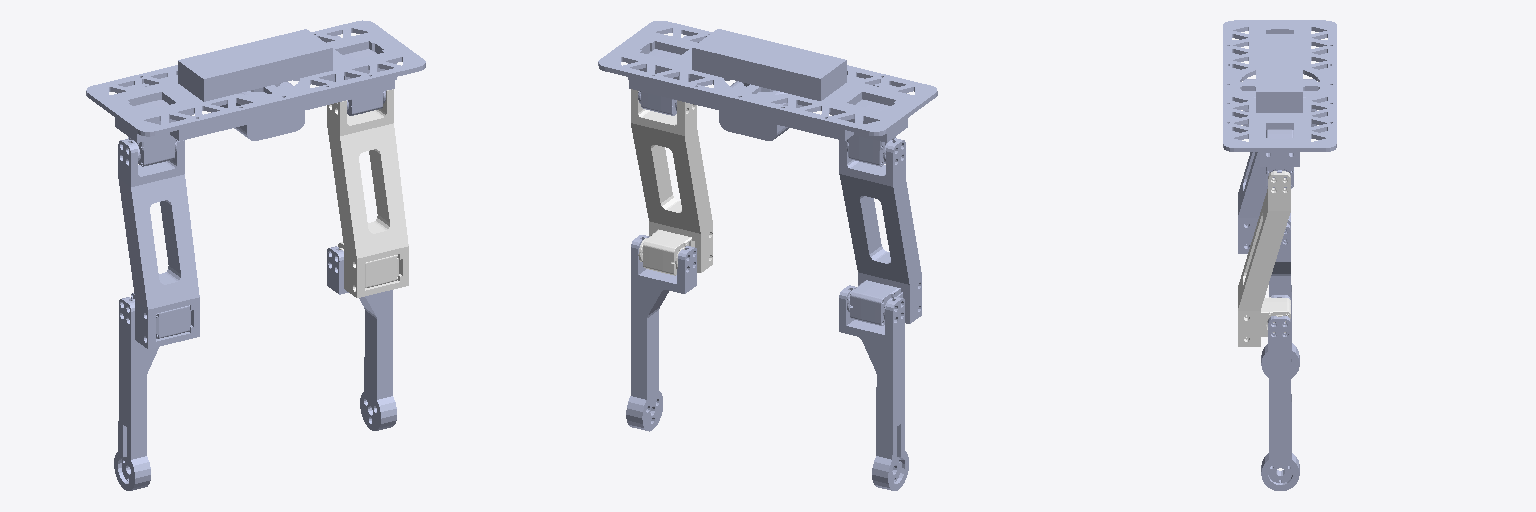
robot.urdf — Total.SLDASM:
<?xml version="1.0" encoding="utf-8"?>
<!-- This URDF was automatically created by SolidWorks to URDF Exporter! Originally created by Stephen Brawner (brawner@gmail.com) 
     Commit Version: 1.6.0-4-g7f85cfe  Build Version: 1.6.7995.38578
     For more information, please see http://wiki.ros.org/sw_urdf_exporter -->
<robot
  name="Total.SLDASM">
  <link
    name="base_link">
    <inertial>
      <origin
        xyz="-0.00023377 -8.7665E-05 -0.0089819"
        rpy="0 0 0" />
      <mass
        value="0.94" />
      <inertia
        ixx="0.00106"
        ixy="-3.2295E-08"
        ixz="1.0418E-14"
        iyy="0.002836"
        iyz="-8.3048E-15"
        izz="0.003618" />
    </inertial>
    <visual>
      <origin
        xyz="0 0 0"
        rpy="0 0 0" />
      <geometry>
        <mesh
          filename="meshes/base_link.STL" />
      </geometry>
      <material
        name="">
        <color
          rgba="0.79216 0.81961 0.93333 1" />
      </material>
    </visual>
    <collision>
      <origin
        xyz="0 0 0"
        rpy="0 0 0" />
      <geometry>
        <mesh
          filename="meshes/base_link.STL" />
      </geometry>
    </collision>
  </link>
  <link
    name="left_leg">
    <inertial>
      <origin
        xyz="0.014085 -0.086343 -0.017864"
        rpy="0 0 0" />
      <mass
        value="0.11866" />
      <inertia
        ixx="0.0002179"
        ixy="4.291E-05"
        ixz="-1.8212E-07"
        iyy="4.6642E-05"
        iyz="1.2537E-06"
        izz="0.00020598" />
    </inertial>
    <visual>
      <origin
        xyz="0 0 0"
        rpy="0 0 0" />
      <geometry>
        <mesh
          filename="meshes/left_leg.STL" />
      </geometry>
      <material
        name="">
        <color
          rgba="0.79216 0.81961 0.93333 1" />
      </material>
    </visual>
    <collision>
      <origin
        xyz="0 0 0"
        rpy="0 0 0" />
      <geometry>
        <mesh
          filename="meshes/left_leg.STL" />
      </geometry>
    </collision>
  </link>
  <joint
    name="servo2"
    type="revolute">
    <origin
      xyz="-0.1148 0 -0.04075"
      rpy="1.5708 0 -1.5708" />
    <parent
      link="base_link" />
    <child
      link="left_leg" />
    <axis
      xyz="0 0 1" />
    <limit
      lower="-1.57"
      upper="1.57"
      effort="5"
      velocity="10" />
  </joint>
  <link
    name="left_foot">
    <inertial>
      <origin
        xyz="-0.00038874 -0.06993 -0.0060741"
        rpy="0 0 0" />
      <mass
        value="0.057726" />
      <inertia
        ixx="0.00013586"
        ixy="-6.9475E-07"
        ixz="8.0067E-08"
        iyy="1.0885E-05"
        iyz="1.4403E-05"
        izz="0.00013001" />
    </inertial>
    <visual>
      <origin
        xyz="0 0 0"
        rpy="0 0 0" />
      <geometry>
        <mesh
          filename="meshes/left_foot.STL" />
      </geometry>
      <material
        name="">
        <color
          rgba="0.79216 0.81961 0.93333 1" />
      </material>
    </visual>
    <collision>
      <origin
        xyz="0 0 0"
        rpy="0 0 0" />
      <geometry>
        <mesh
          filename="meshes/left_foot.STL" />
      </geometry>
    </collision>
  </link>
  <joint
    name="servo1"
    type="revolute">
    <origin
      xyz="0.0002967 -0.14 0"
      rpy="0 0 0" />
    <parent
      link="left_leg" />
    <child
      link="left_foot" />
    <axis
      xyz="0 0 1" />
    <limit
      lower="-3.14"
      upper="0"
      effort="5"
      velocity="10" />
  </joint>
  <link
    name="left_wheel">
    <inertial>
      <origin
        xyz="-0.00048154 -0.00095238 0.036709"
        rpy="0 0 0" />
      <mass
        value="0.43394" />
      <inertia
        ixx="0.000686"
        ixy="-1.1912E-12"
        ixz="-1.7604E-12"
        iyy="0.000686"
        iyz="-2.606E-12"
        izz="0.001247" />
    </inertial>
    <visual>
      <origin
        xyz="0 0 0"
        rpy="0 0 0" />
      <geometry>
        <mesh
          filename="meshes/left_wheel.STL" />
      </geometry>
      <material
        name="">
        <color
          rgba="0.79216 0.81961 0.93333 1" />
      </material>
    </visual>
    <collision>
      <origin
        xyz="0 0 0"
        rpy="0 0 0" />
      <geometry>
        <mesh
          filename="meshes/left_wheel.STL" />
      </geometry>
    </collision>
  </link>
  <joint
    name="wheel1"
    type="continuous">
    <origin
      xyz="-0.00077824 -0.14 -0.00275"
      rpy="0 0 3.1416" />
    <parent
      link="left_foot" />
    <child
      link="left_wheel" />
    <axis
      xyz="0 0 1" />
  </joint>
  <link
    name="right_leg">
    <inertial>
      <origin
        xyz="-0.014085 -0.086343 -0.017864"
        rpy="0 0 0" />
      <mass
        value="0.11866" />
      <inertia
        ixx="0.0002179" 
        ixy="-4.291E-05" 
        ixz="1.8212E-07" 
        iyy="4.6642E-05" 
        iyz="1.2537E-06" 
        izz="0.00020598" />
    </inertial>
    <visual>
      <origin
        xyz="0 0 0"
        rpy="0 0 0" />
      <geometry>
        <mesh
          filename="meshes/right_leg.STL" />
      </geometry>
      <material
        name="">
        <color
          rgba="1 1 1 1" />
      </material>
    </visual>
    <collision>
      <origin
        xyz="0 0 0"
        rpy="0 0 0" />
      <geometry>
        <mesh
          filename="meshes/right_leg.STL" />
      </geometry>
    </collision>
  </link>
  <joint
    name="servo4"
    type="revolute">
    <origin
      xyz="0.1148 0 -0.04075"
      rpy="1.5708 0 1.5708" />
    <parent
      link="base_link" />
    <child
      link="right_leg" />
    <axis
      xyz="0 0 1" />
    <limit
      lower="-1.57"
      upper="1.57"
      effort="5"
      velocity="10" />
  </joint>
  <link
    name="right_foot">
    <inertial>
      <origin
        xyz="0.00038874 -0.06993 -0.0060741"
        rpy="0 0 0" />
      <mass
        value="0.057726" />
      <inertia
        ixx="0.00013586"
        ixy="6.9475E-07"
        ixz="-8.0067E-08"
        iyy="1.0885E-05"
        iyz="1.4403E-05"
        izz="0.00013001" />
    </inertial>
    <visual>
      <origin
        xyz="0 0 0"
        rpy="0 0 0" />
      <geometry>
        <mesh
          filename="meshes/right_foot.STL" />
      </geometry>
      <material
        name="">
        <color
          rgba="0.79216 0.81961 0.93333 1" />
      </material>
    </visual>
    <collision>
      <origin
        xyz="0 0 0"
        rpy="0 0 0" />
      <geometry>
        <mesh
          filename="meshes/right_foot.STL" />
      </geometry>
    </collision>
  </link>
  <joint
    name="servo3"
    type="revolute">
    <origin
      xyz="-0.0002967 -0.14 0"
      rpy="0 0 0" />
    <parent
      link="right_leg" />
    <child
      link="right_foot" />
    <axis
      xyz="0 0 1" />
    <limit
      lower="0"
      upper="3.14"
      effort="5"
      velocity="10" />
  </joint>
  <link
    name="right_wheel">
    <inertial>
      <origin
        xyz="-0.00048154 0.00095238 0.036709"
        rpy="0 0 0" />
      <mass
        value="0.43394" />
      <inertia
        ixx="0.00068649"
        ixy="-1.2145E-12"
        ixz="1.6984E-12"
        iyy="0.00068643"
        iyz="2.5715E-12"
        izz="0.00124706" />
    </inertial>
    <visual>
      <origin
        xyz="0 0 0"
        rpy="0 0 0" />
      <geometry>
        <mesh
          filename="meshes/right_wheel.STL" />
      </geometry>
      <material
        name="">
        <color
          rgba="0.94118 0.67451 0.11765 1" />
      </material>
    </visual>
    <collision>
      <origin
        xyz="0 0 0"
        rpy="0 0 0" />
      <geometry>
        <mesh
          filename="meshes/right_wheel.STL" />
      </geometry>
    </collision>
  </link>
  <joint
    name="wheel2"
    type="continuous">
    <origin
      xyz="0.00077824 -0.14 -0.00275"
      rpy="0 0 0" />
    <parent
      link="right_foot" />
    <child
      link="right_wheel" />
    <axis
      xyz="0 0 1" />
  </joint>
</robot>

--- Render facts (derived) ---
Views: 3 orthographic renders of the robot side by side, from view 1: azimuth 30°, elevation 25°; view 2: azimuth 150°, elevation 25°; view 3: azimuth 270°, elevation 25°.
Model Total.SLDASM with 7 links and 6 joints (4 revolute, 2 continuous), rooted at base_link, posed all joints at 0.
Links seen in each view (by area): view 1: base_link, left_leg, right_leg, left_foot, right_foot; view 2: base_link, left_leg, right_leg, left_foot, right_foot; view 3: base_link, right_leg, right_foot, left_leg, left_foot.
Boxes of the visible links, left/top/right/bottom form: base_link: left=86, top=20, right=425, bottom=166; left_leg: left=118, top=139, right=199, bottom=348; right_leg: left=327, top=89, right=408, bottom=297; left_foot: left=114, top=297, right=158, bottom=490; right_foot: left=327, top=246, right=396, bottom=430; base_link: left=598, top=21, right=937, bottom=166; left_leg: left=839, top=138, right=921, bottom=325; right_leg: left=631, top=89, right=712, bottom=275; left_foot: left=839, top=285, right=908, bottom=490; right_foot: left=626, top=235, right=696, bottom=431; base_link: left=1223, top=20, right=1336, bottom=188; right_leg: left=1238, top=171, right=1290, bottom=346; right_foot: left=1261, top=295, right=1299, bottom=490; left_leg: left=1238, top=152, right=1290, bottom=253; left_foot: left=1261, top=223, right=1299, bottom=378.
Size in the robot's own frame: 0.265 by 0.1 by 0.3577 metres.
Meshes: 7 distinct files referenced, 5 mesh visuals loaded (5 binary STL); not drawn: 2 (reference not matched to a file when rendering).
